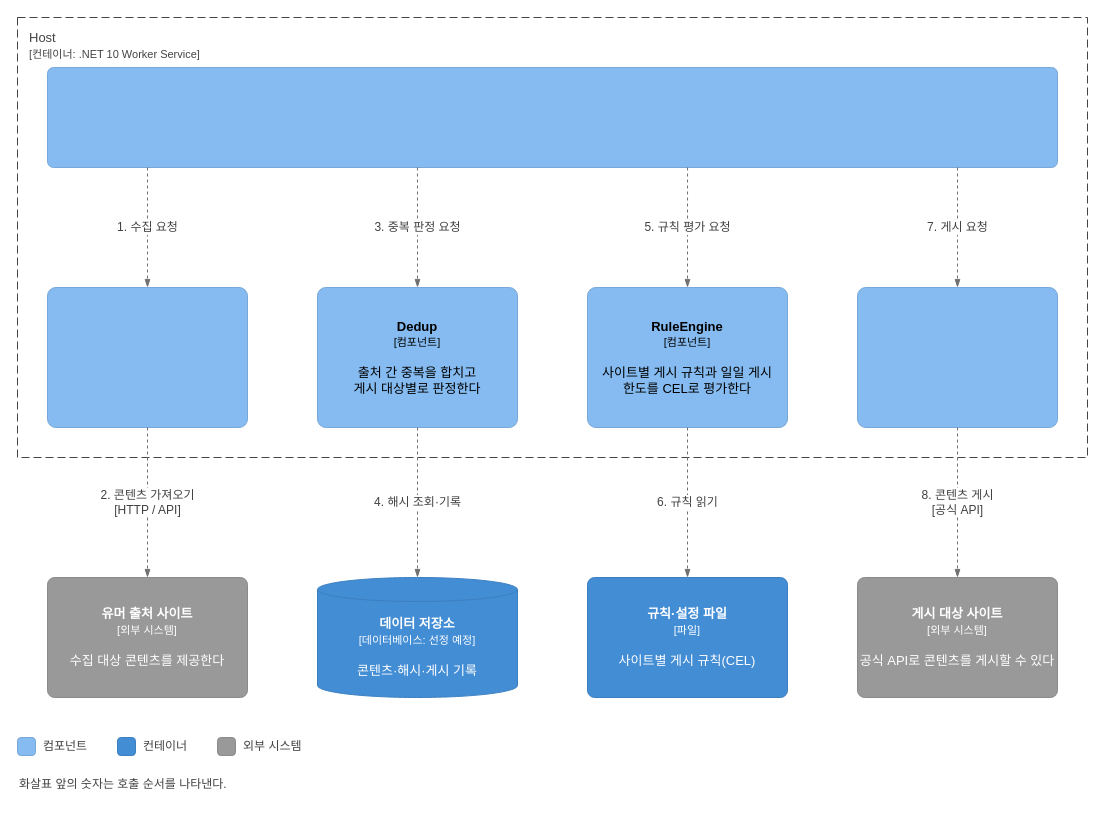
Image size: 1105x814. Some labels were removed from this diagram. The shapes that lost their labels are listed below. From the top down, each one's centre as x and y in pixels, then its label:
the point at 552,117: 파이프라인 실행기 [컴포넌트] 스케줄에 따라 각 단계를 순서대로 호출한다
the point at 147,357: Collectors [컴포넌트] 출처별 수집기. 출처마다 구현체를 추가한다
the point at 957,357: Publishers [컴포넌트] 사이트별 게시 모듈. 게시 대상마다 구현체를 추가한다
